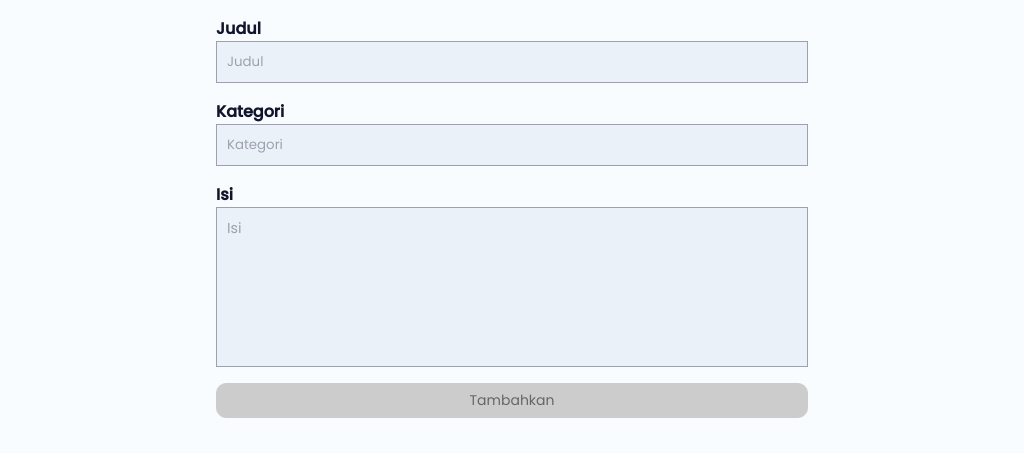
Test: ThreadForm component › should show invalid category message when category is empty
What coordinates should you click on to do the following:
click the field with placeholder "Kategori"
I would click on:
 (512, 145)
Its box is [216,124,808,166].
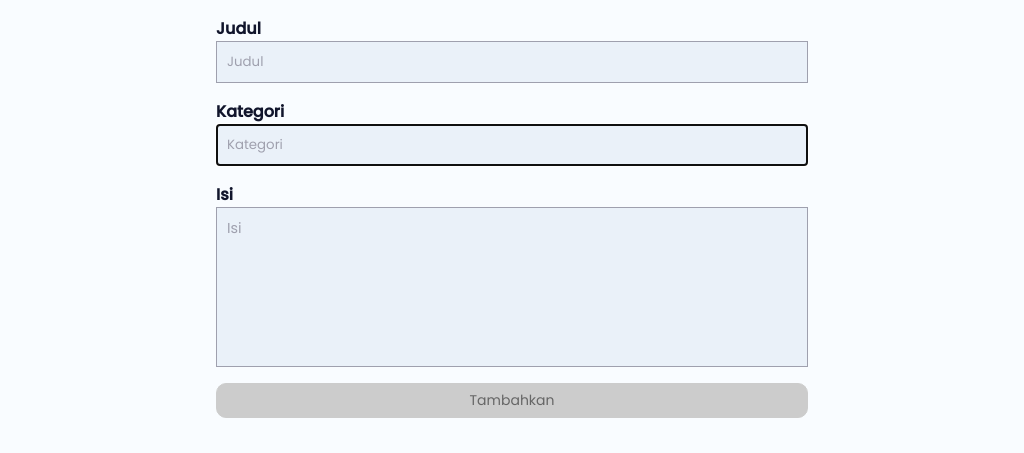
What coordinates should you click on to do the following:
click the element showing "Judul Kategori Isi Tambahkan"
I would click on:
 (512, 217)
Its box is [0,0,1023,434].
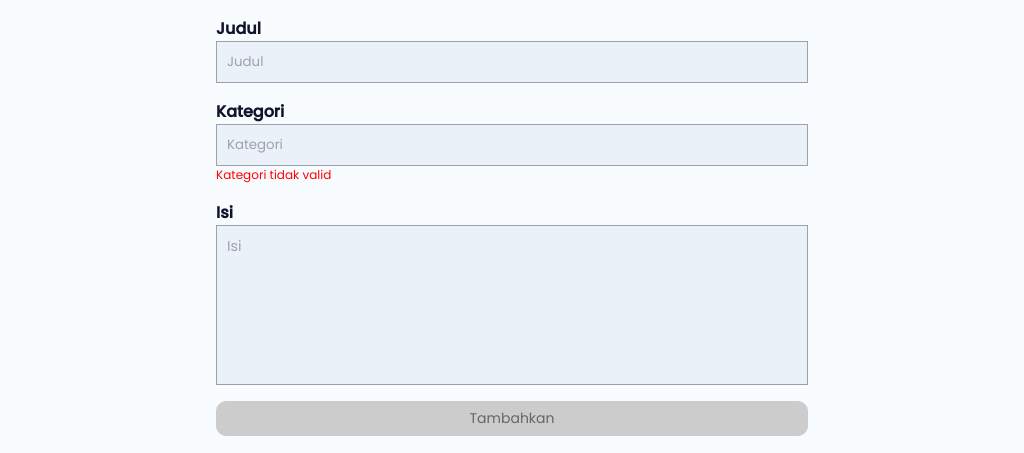
Expected: the text "Kategori tidak valid" is shown, [216,166,331,183]
